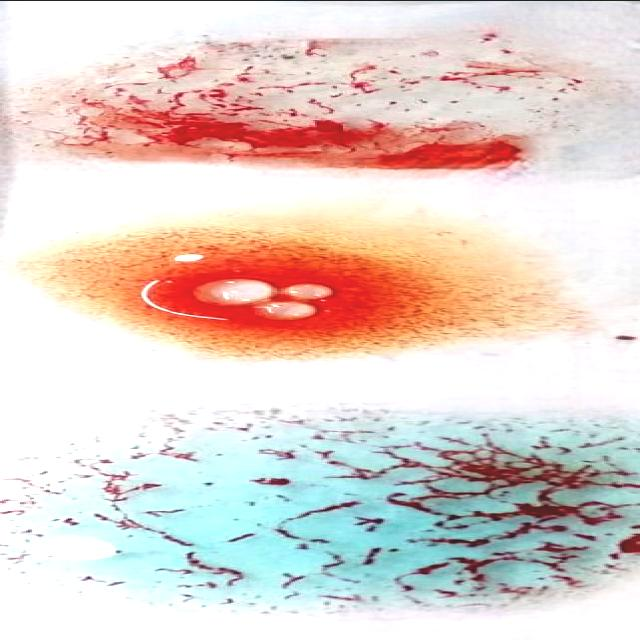A: (0, 416, 640, 610)
B: (22, 218, 582, 354)
D: (26, 38, 622, 170)
